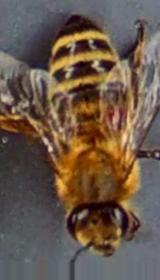varroa_mite: (93, 105, 135, 130)
